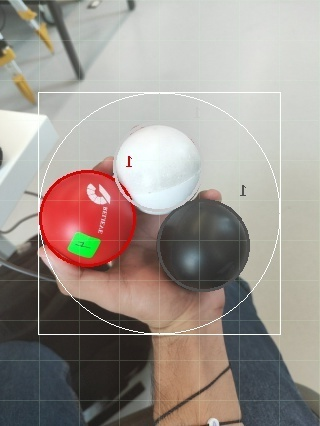Pelota blanca: (111, 121, 204, 216)
Pelota negra: (157, 196, 252, 291)
Pelota roja: (39, 169, 137, 270)
